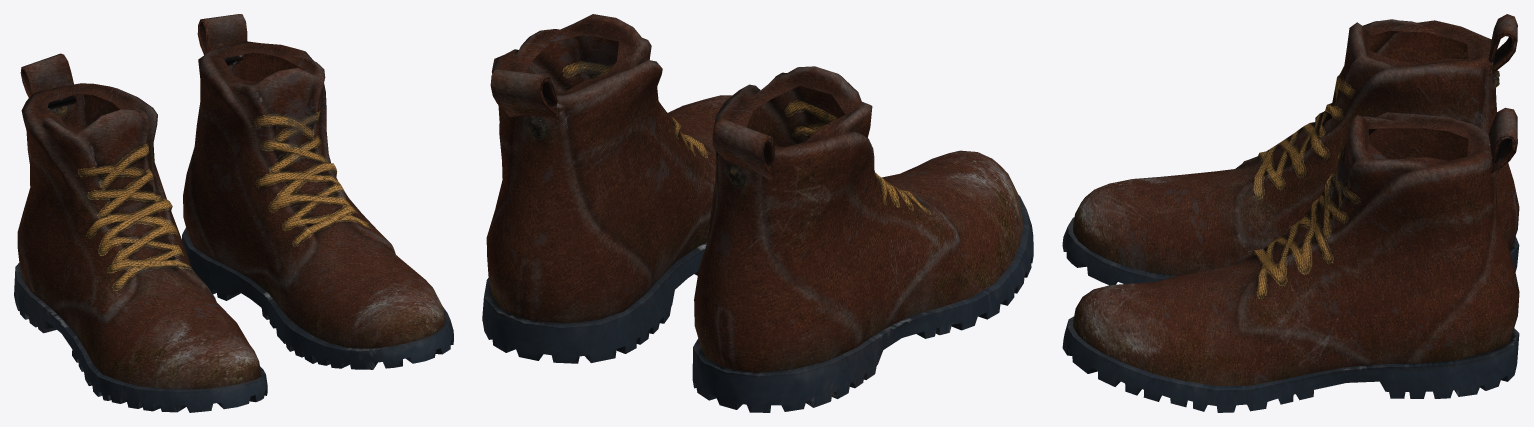
Rendered from manShoe2.obj.
The picture shows the model from 3 angles, left to right: view 1: azimuth 30°, elevation 25°; view 2: azimuth 150°, elevation 25°; view 3: azimuth 270°, elevation 25°; orthographic projection. The views are drawn at different scales.
Visible parts, largest first — view 1: Boots; view 2: Boots; view 3: Boots.
Part boxes in pixels (<box>): Boots: <box>14,14,453,412</box>; Boots: <box>482,14,1033,412</box>; Boots: <box>1062,14,1519,412</box>.
Bounding box in the file's own units: 29.54 × 19.57 × 31.44.
